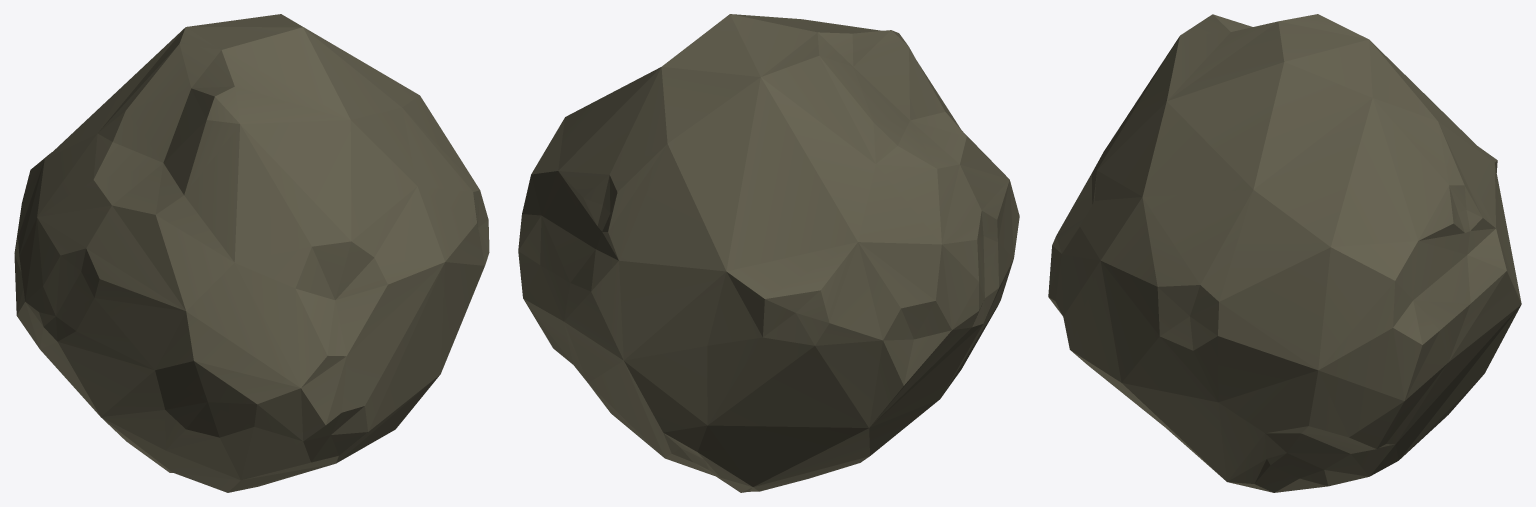
The model's file is obj_boulder.FBX.
3 renders of one model, left to right at view 1: azimuth 30°, elevation 25°; view 2: azimuth 150°, elevation 25°; view 3: azimuth 270°, elevation 25°, orthographic.
Visible parts, largest first — view 1: obj_boulder; view 2: obj_boulder; view 3: obj_boulder.
Part boxes in pixels (<box>): obj_boulder: <box>14,14,489,492</box>; obj_boulder: <box>518,14,1019,492</box>; obj_boulder: <box>1048,14,1521,492</box>.
Size of the model in its own units: 2.03 by 2 by 1.97.
